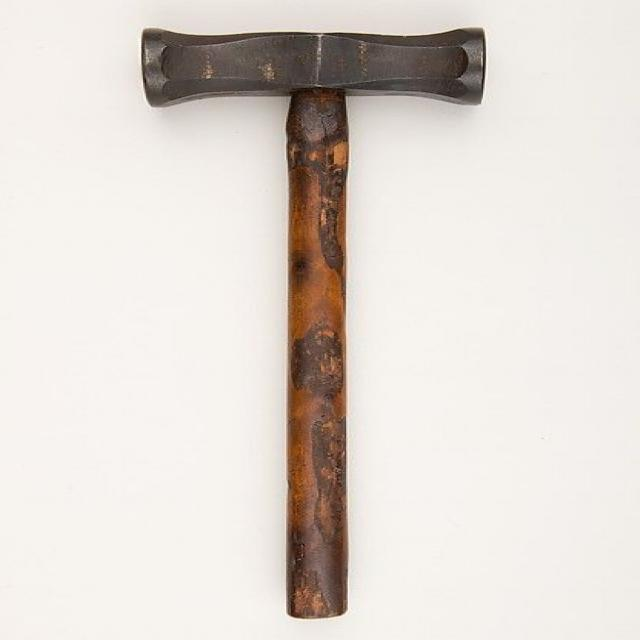hammer: (128, 18, 488, 620)
